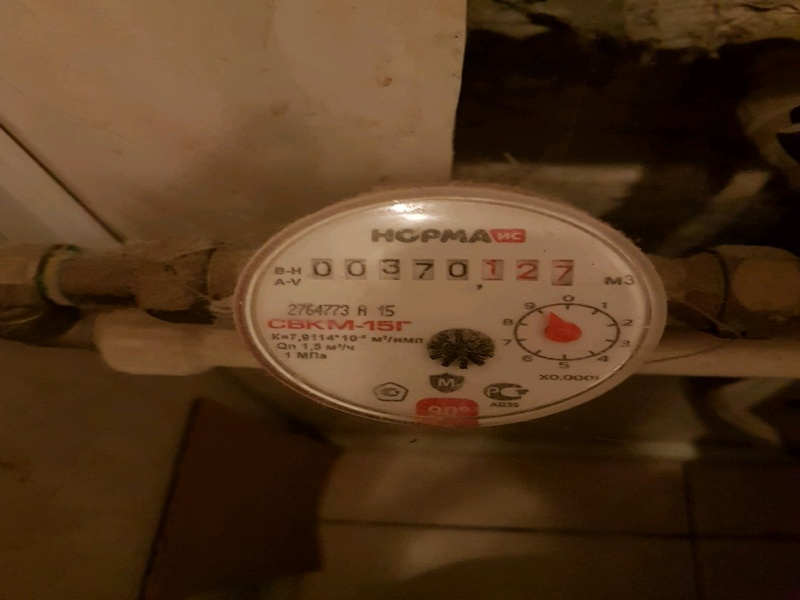meter: (310, 250, 586, 285)
